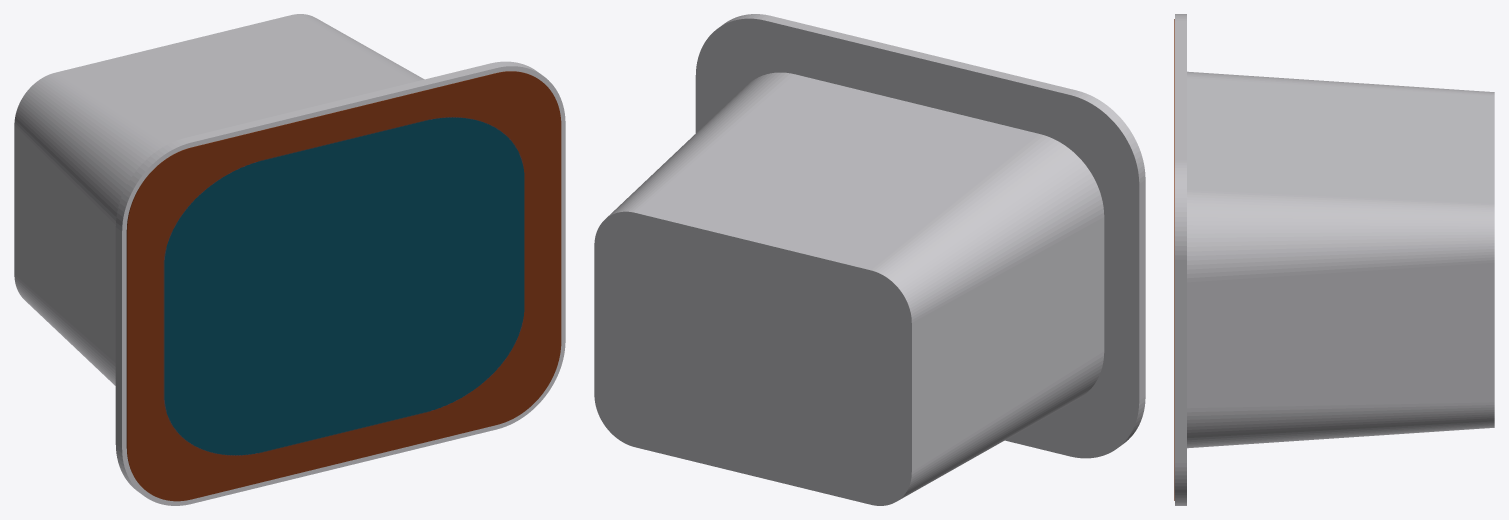
3 views of the same model, side by side, from view 1: azimuth 30°, elevation 25°; view 2: azimuth 150°, elevation 25°; view 3: azimuth 270°, elevation 25° (orthographic). The views are drawn at different scales.
Parts seen in each view (by area): view 1: heinz_snap_pot_visual; view 2: heinz_snap_pot_visual; view 3: heinz_snap_pot_visual.
Part boxes in pixels (x1,y1,x2,y2): heinz_snap_pot_visual: [14, 14, 565, 505]; heinz_snap_pot_visual: [594, 14, 1145, 505]; heinz_snap_pot_visual: [1174, 14, 1494, 505].
Size of the model in its own units: 0.095 by 0.074 by 0.0635.
2 materials, 1 textured.
